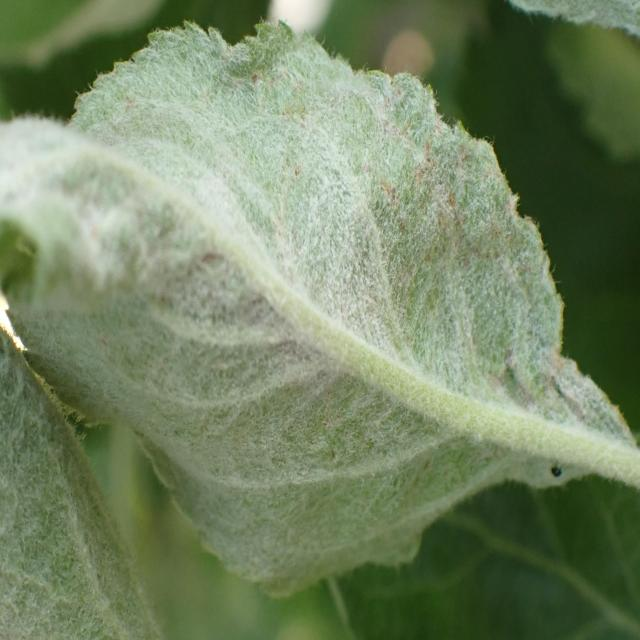Powdery_mildew: (0, 22, 629, 562), (0, 307, 187, 639)
